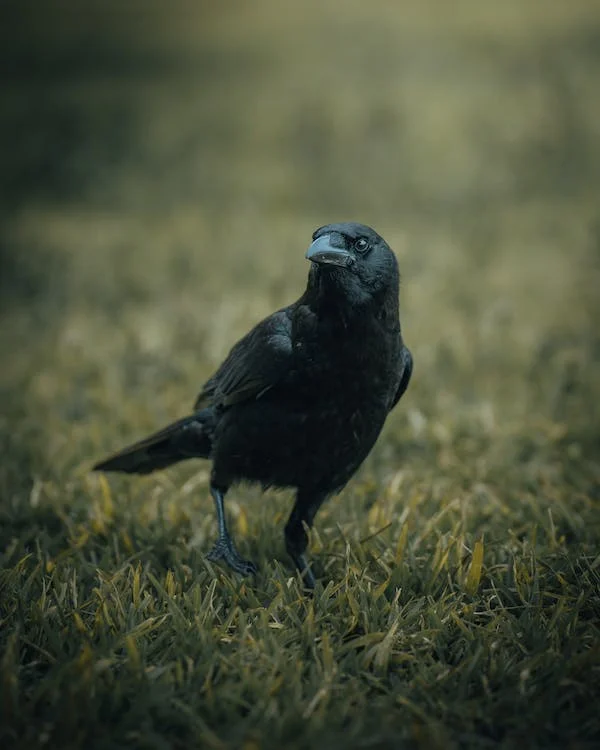Walking: (71, 167, 499, 641)
